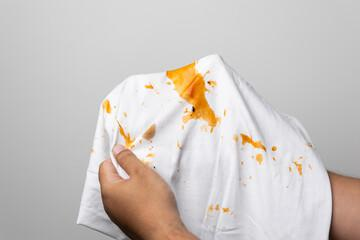gun: (165, 65, 225, 138), (100, 100, 141, 148), (232, 126, 278, 164), (203, 199, 233, 217), (286, 153, 302, 184), (143, 117, 159, 145), (143, 152, 160, 169), (142, 81, 157, 94), (238, 175, 249, 188), (172, 141, 184, 151)
